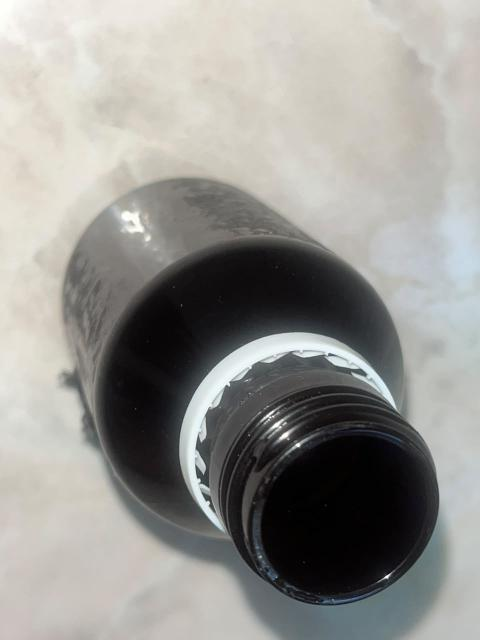HDPE: (50, 183, 465, 620)
